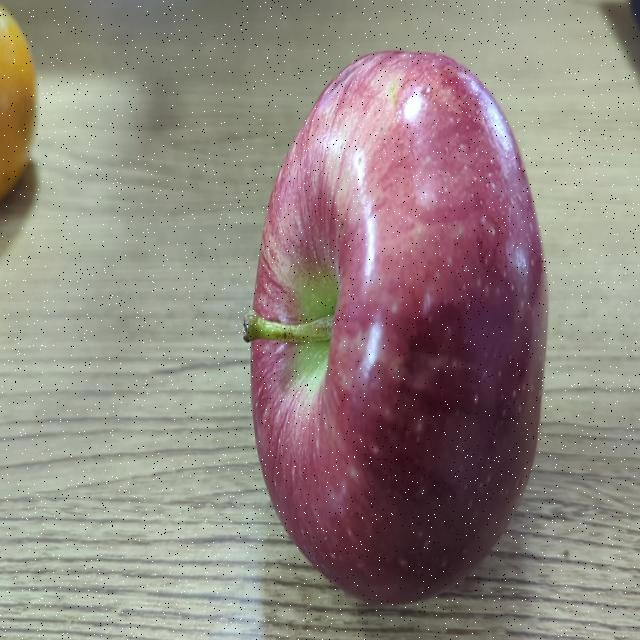Apel Merah: (227, 53, 546, 587)
Jeruk Mandarin: (0, 8, 39, 196)
